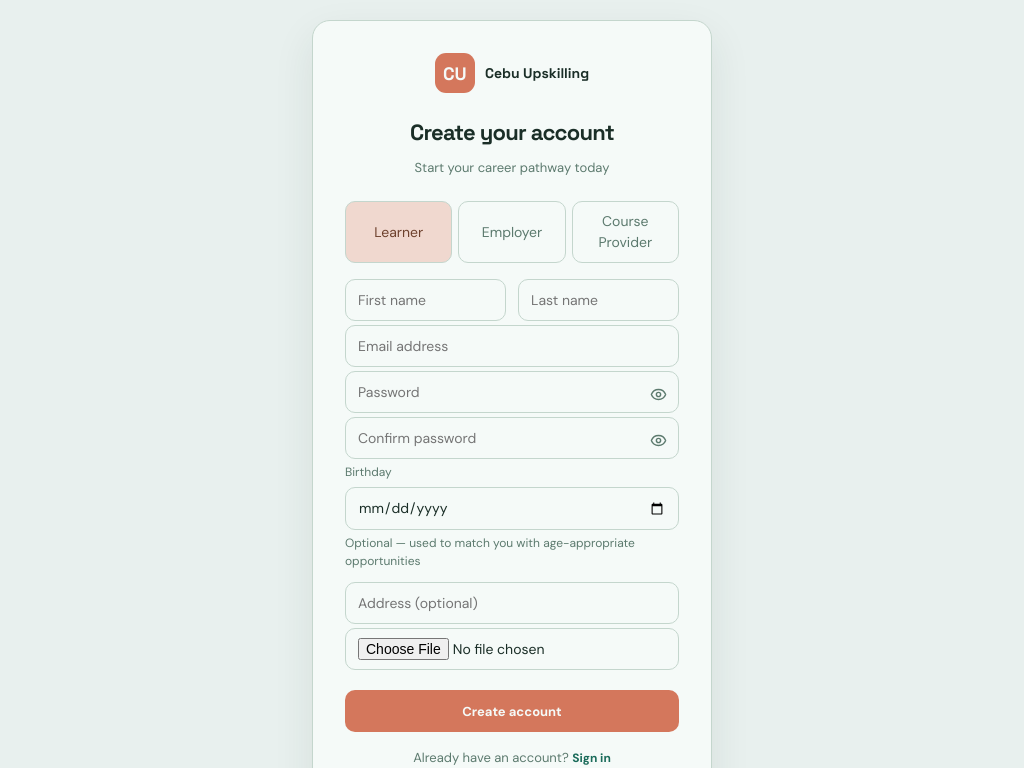
Test case: RegisterPage › clears the confirm password field error as the user types
In the field with placeholder "First name": (426, 300) x1=345 y1=279 x2=506 y2=321, type "Jose"
In the field with placeholder "Last name": (598, 300) x1=518 y1=279 x2=679 y2=321, type "Rizal"
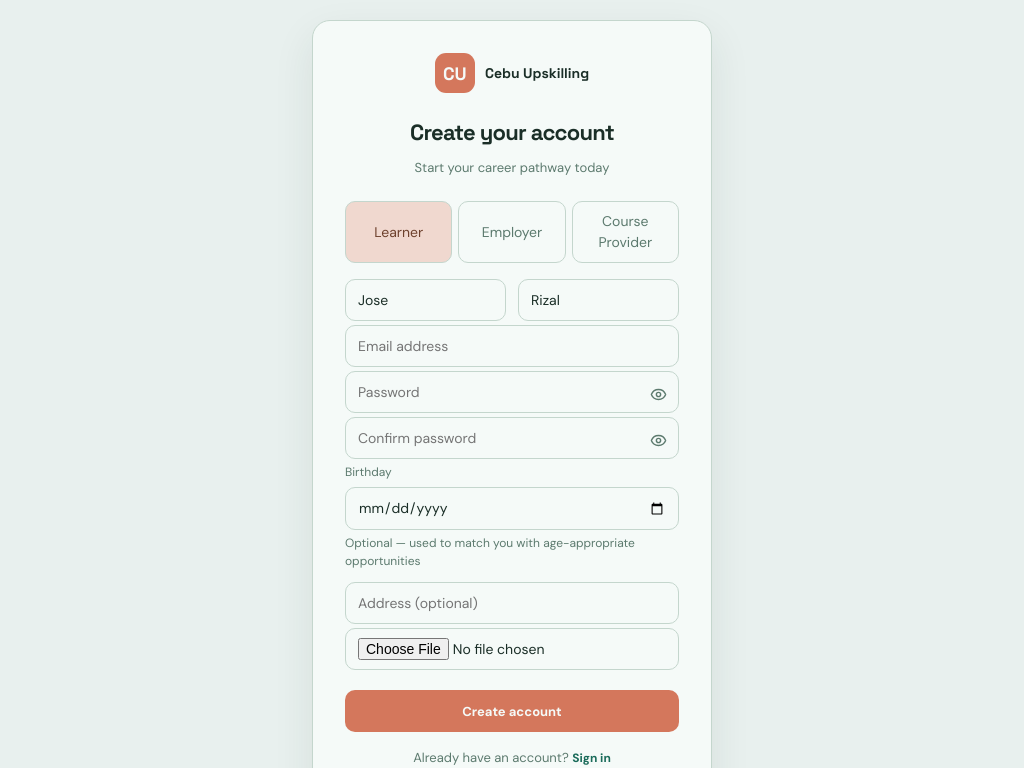
In the field with placeholder "Email address": (512, 346) x1=345 y1=325 x2=679 y2=367, type "jose@example.com"
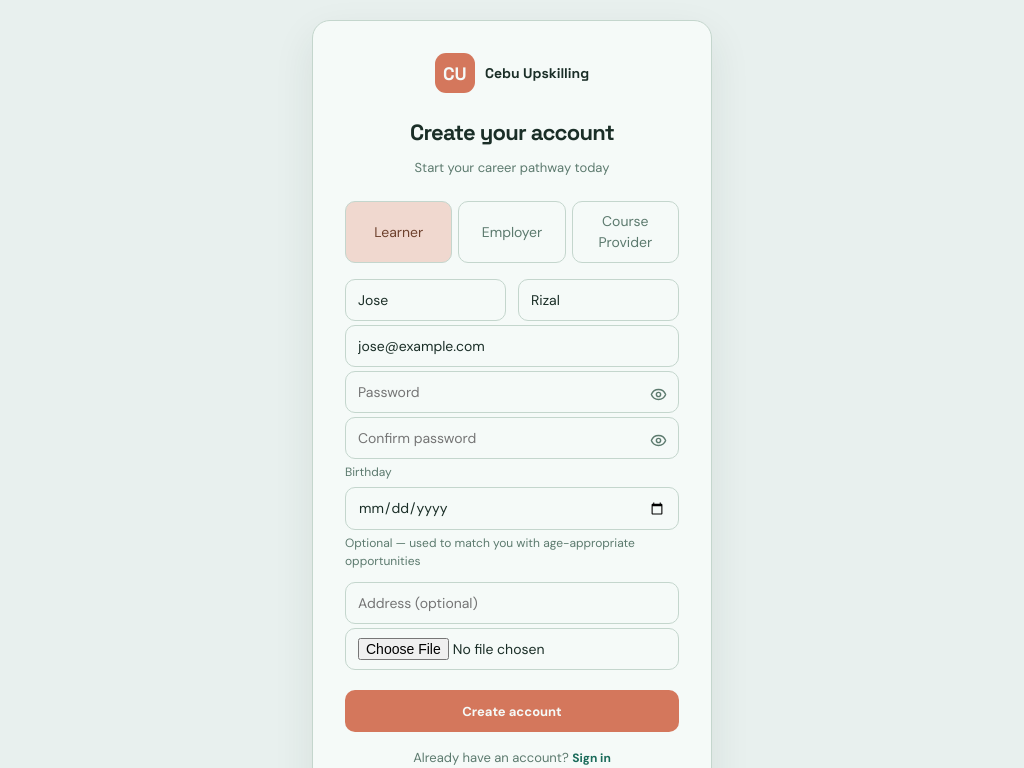
In the password field with placeholder "Password": (512, 392) x1=345 y1=371 x2=679 y2=413, type "secret123"
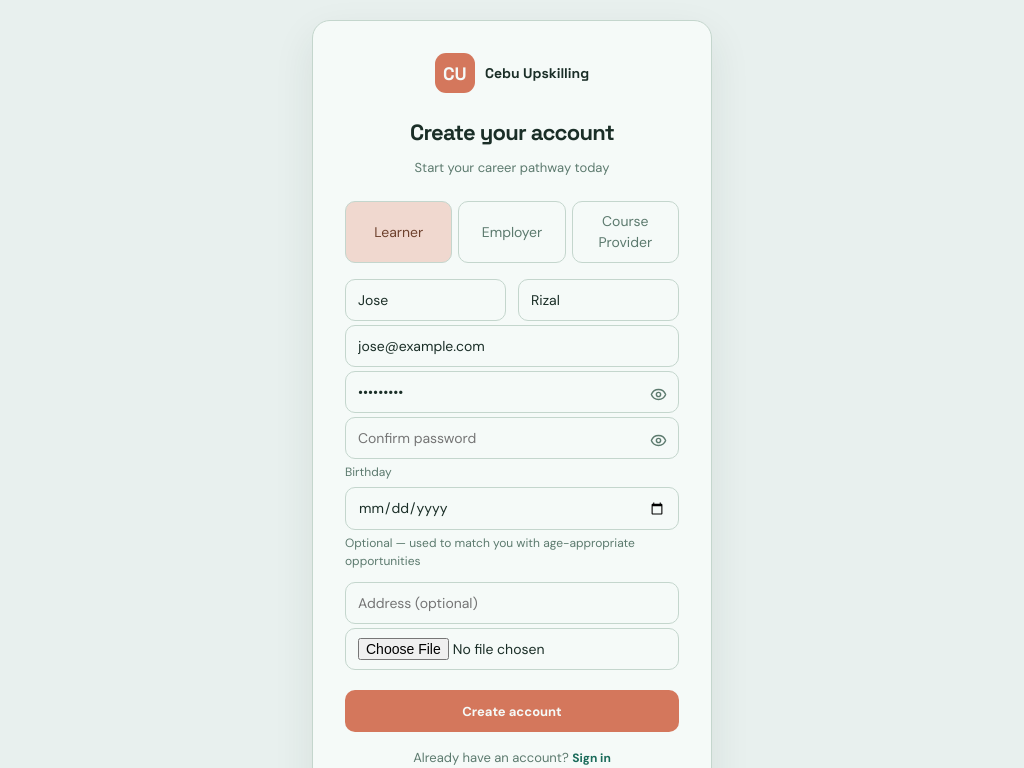
In the password field with placeholder "Confirm password": (512, 438) x1=345 y1=417 x2=679 y2=459, type "different123"
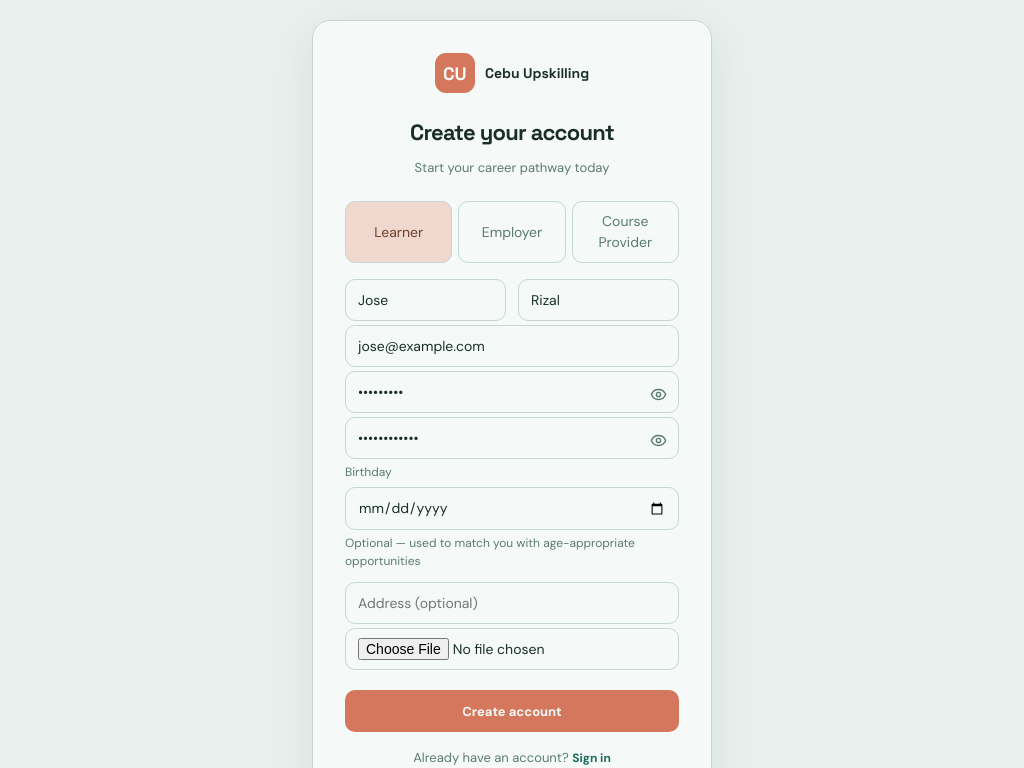
Click the button "Create account": (512, 711) x1=345 y1=690 x2=679 y2=732
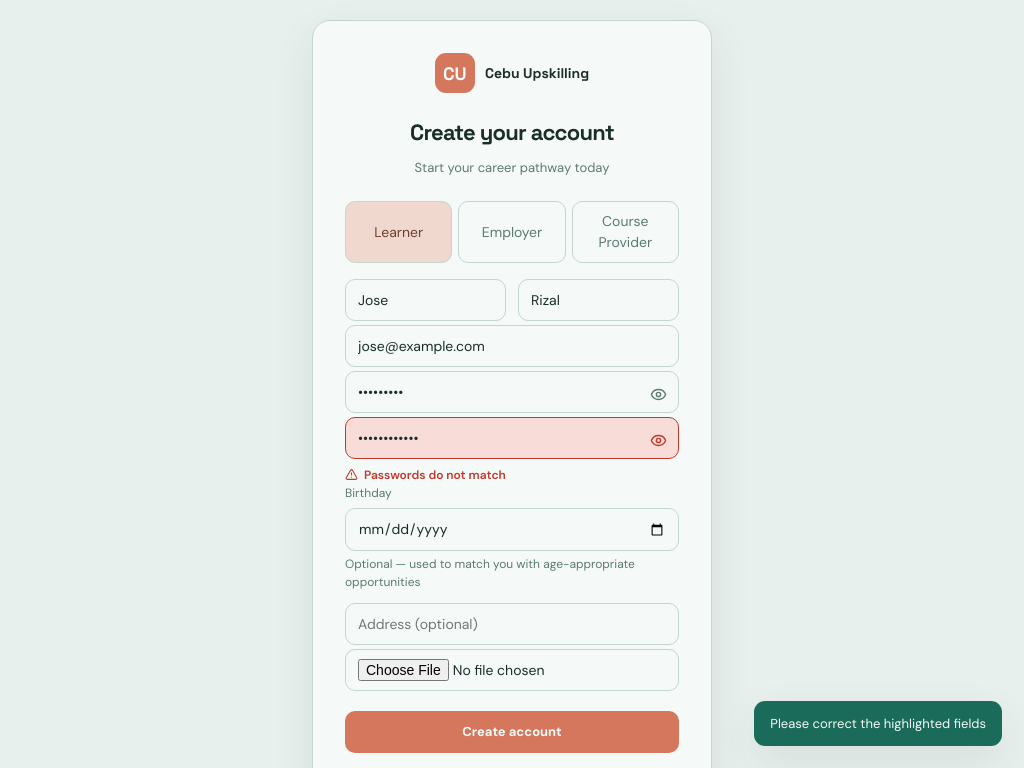
Result: the text "Passwords do not match" is shown at x1=364 y1=467 x2=506 y2=484
In the 2nd password field with placeholder "Confirm password": (512, 438) x1=345 y1=417 x2=679 y2=459, type "secret123"
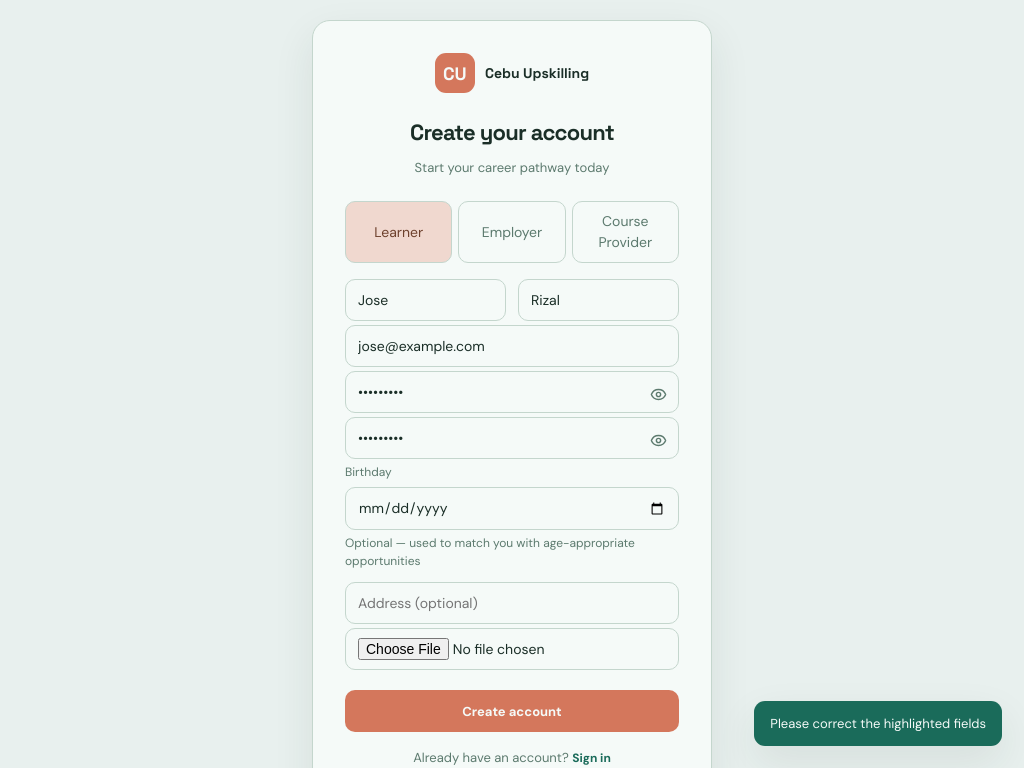
Result: the text "Passwords do not match" is gone
